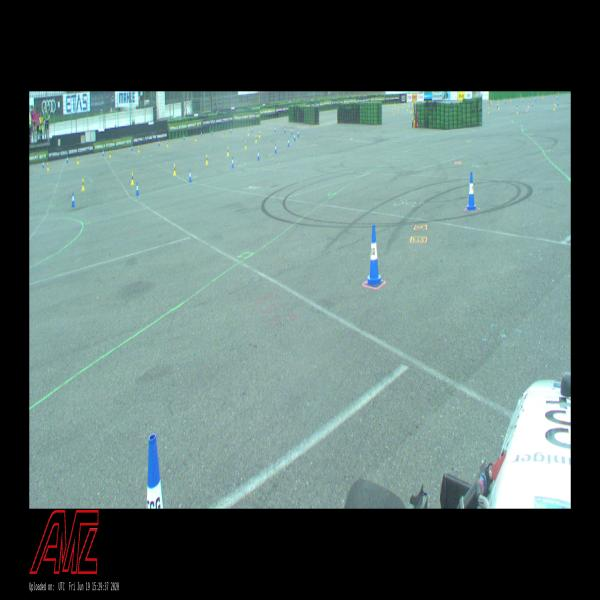blue_cone: (146, 434, 164, 508), (365, 225, 383, 286), (467, 172, 477, 210), (71, 192, 75, 207), (188, 169, 192, 182), (136, 181, 139, 195), (231, 157, 234, 168), (258, 150, 260, 160), (275, 144, 277, 152), (42, 160, 44, 168), (288, 138, 290, 146), (294, 133, 296, 141), (297, 130, 299, 137), (291, 128, 293, 134), (183, 134, 185, 140), (557, 100, 559, 106), (131, 144, 133, 150), (158, 140, 160, 146), (284, 126, 286, 132), (201, 131, 203, 137), (211, 130, 213, 135), (230, 128, 232, 133), (251, 128, 253, 132), (67, 156, 68, 163), (103, 149, 104, 156), (275, 126, 276, 132), (532, 102, 533, 107), (516, 102, 517, 107), (505, 99, 506, 104)
orange_cone: (526, 108, 528, 114)
yellow_cone: (131, 172, 134, 185), (82, 178, 84, 189), (174, 164, 176, 175), (206, 154, 208, 164), (227, 146, 229, 156), (245, 140, 247, 149), (255, 134, 257, 143), (194, 134, 196, 142), (77, 156, 79, 164), (516, 108, 518, 115), (223, 131, 225, 138), (138, 146, 140, 152), (553, 104, 555, 110), (554, 100, 556, 106), (510, 96, 512, 102), (527, 103, 529, 108), (48, 163, 49, 170), (110, 150, 111, 157), (167, 140, 168, 147), (248, 129, 249, 136), (259, 131, 260, 138), (488, 108, 489, 114), (498, 105, 499, 110)
